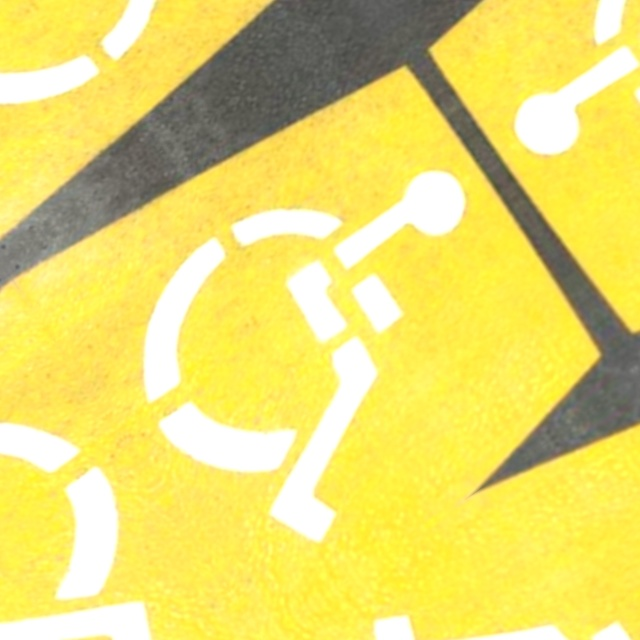ISA: (61, 91, 586, 595), (300, 433, 640, 640), (0, 342, 226, 640), (455, 0, 640, 321), (0, 0, 299, 184)
